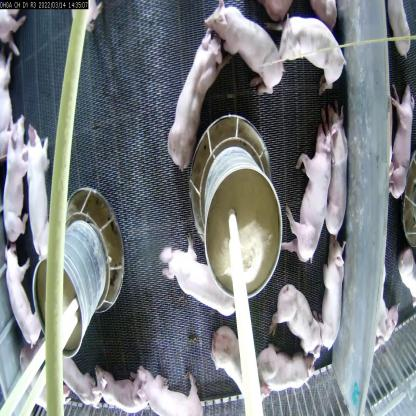Pig: (194, 308, 276, 414), (17, 109, 70, 265), (163, 236, 237, 336), (164, 28, 220, 152), (212, 0, 284, 95), (310, 90, 349, 239), (3, 247, 48, 374), (272, 7, 343, 86), (288, 140, 334, 254), (127, 361, 217, 416), (0, 127, 38, 246), (256, 338, 321, 403), (266, 278, 321, 350), (321, 244, 353, 353), (92, 363, 150, 416)
